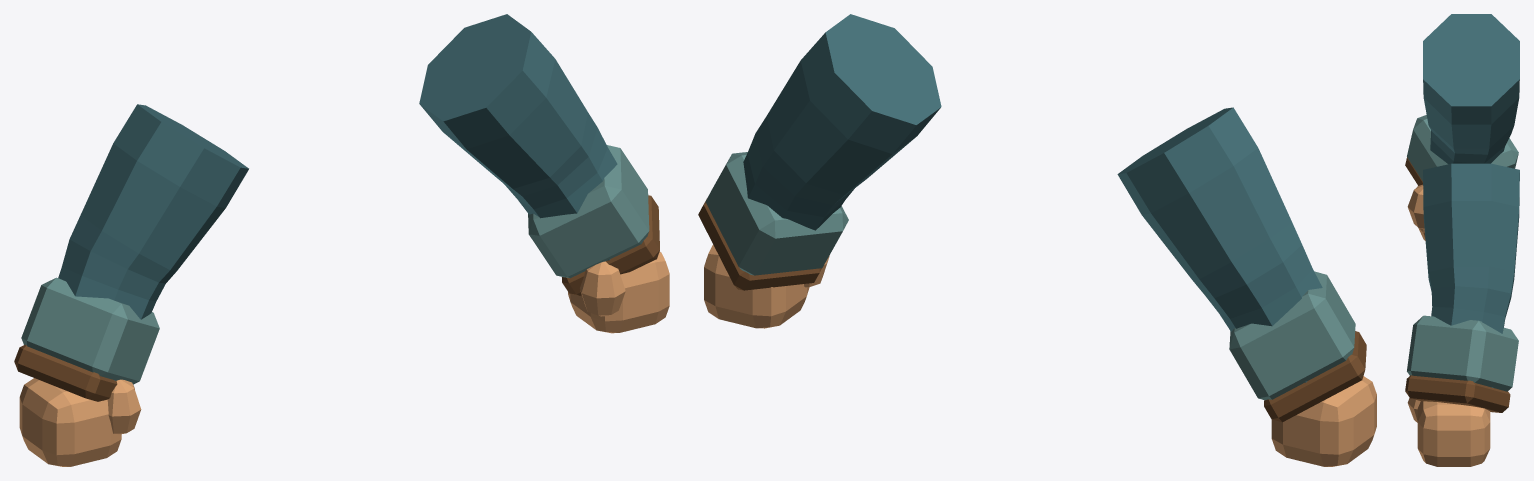
The model's file is SM_NPC_Arms_01_Cloth.glb.
The picture shows the model from 3 angles, left to right: view 1: azimuth 30°, elevation 25°; view 2: azimuth 150°, elevation 25°; view 3: azimuth 270°, elevation 25°; orthographic projection. The views are drawn at different scales.
Visible parts, largest first — view 1: SM_NPC_Arms_01_Cloth; view 2: SM_NPC_Arms_01_Cloth; view 3: SM_NPC_Arms_01_Cloth.
Part boxes in pixels (x1,y1,x2,y2): SM_NPC_Arms_01_Cloth: [14, 14, 669, 466]; SM_NPC_Arms_01_Cloth: [698, 14, 1376, 466]; SM_NPC_Arms_01_Cloth: [1405, 14, 1519, 466].
Size of the model in its own units: 1.12 by 0.5243 by 0.2103.
